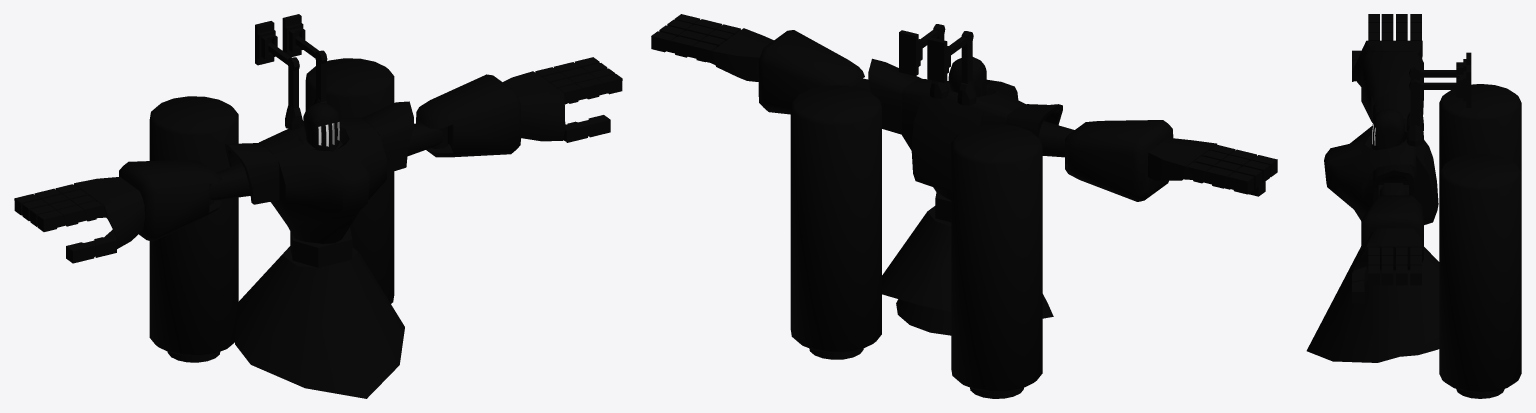
File: sp_commit.fbx
3 views of the same model, side by side, from view 1: azimuth 30°, elevation 25°; view 2: azimuth 150°, elevation 25°; view 3: azimuth 270°, elevation 25° (orthographic). The views are drawn at different scales.
Parts seen in each view (by area): view 1: m_skirt; view 2: m_skirt; view 3: m_skirt.
Part boxes in pixels (x1=…): m_skirt: x1=14, y1=14, x2=622, y2=398; m_skirt: x1=651, y1=14, x2=1277, y2=398; m_skirt: x1=1306, y1=14, x2=1521, y2=398.
Size of the model in its own units: 4459 by 2332 by 1561.
Materials: 1 (1 with a texture image).
